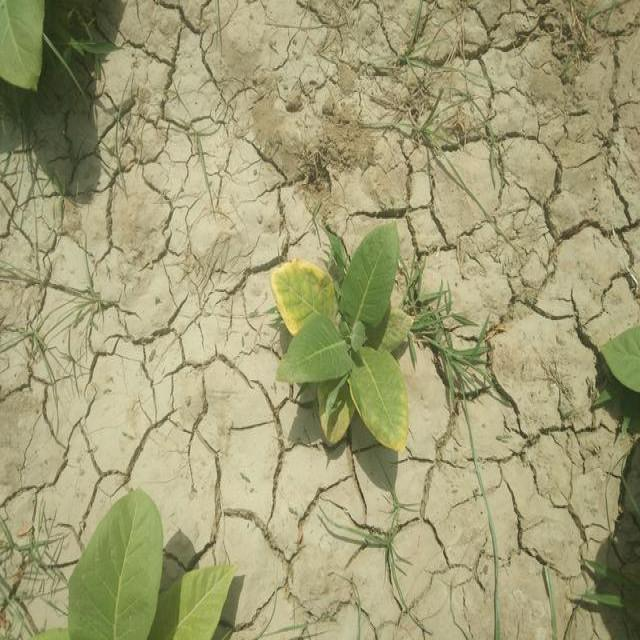crop: (274, 225, 408, 457), (66, 495, 222, 640), (0, 0, 49, 92), (610, 324, 640, 402)
